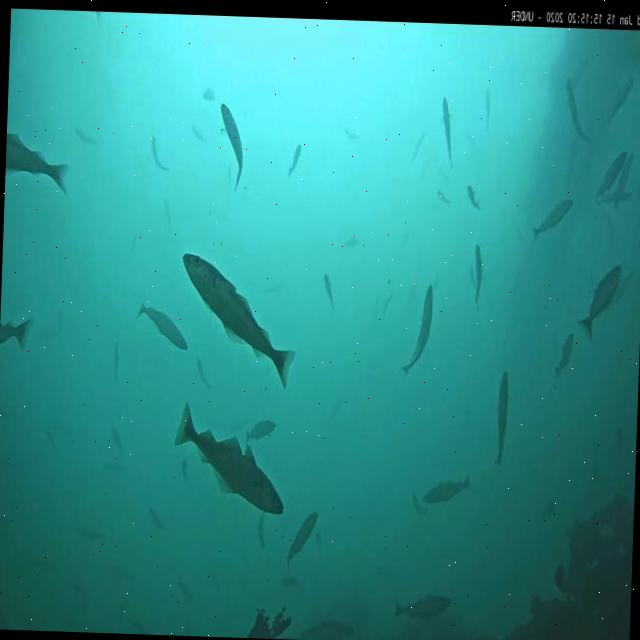fish: (178, 250, 300, 390), (172, 402, 292, 516), (4, 130, 68, 192), (398, 284, 436, 376), (578, 264, 622, 340), (135, 302, 190, 350), (218, 104, 246, 194), (286, 511, 318, 572), (532, 197, 574, 240), (393, 594, 453, 621), (566, 78, 590, 142), (421, 475, 472, 505), (596, 149, 626, 198), (494, 370, 509, 467), (0, 314, 34, 350), (608, 77, 634, 120), (299, 619, 352, 640), (608, 270, 633, 310), (440, 96, 454, 166), (614, 152, 632, 206), (553, 334, 573, 378), (244, 417, 276, 444), (150, 137, 170, 171), (472, 244, 482, 308), (287, 141, 302, 177), (197, 356, 212, 390), (596, 190, 632, 204), (74, 126, 98, 146), (324, 272, 336, 310), (412, 130, 426, 160), (465, 184, 480, 208), (256, 510, 264, 550), (112, 345, 119, 387), (484, 88, 490, 131), (189, 124, 207, 138), (436, 189, 452, 204), (181, 457, 189, 479), (343, 236, 358, 246), (343, 128, 357, 138)
